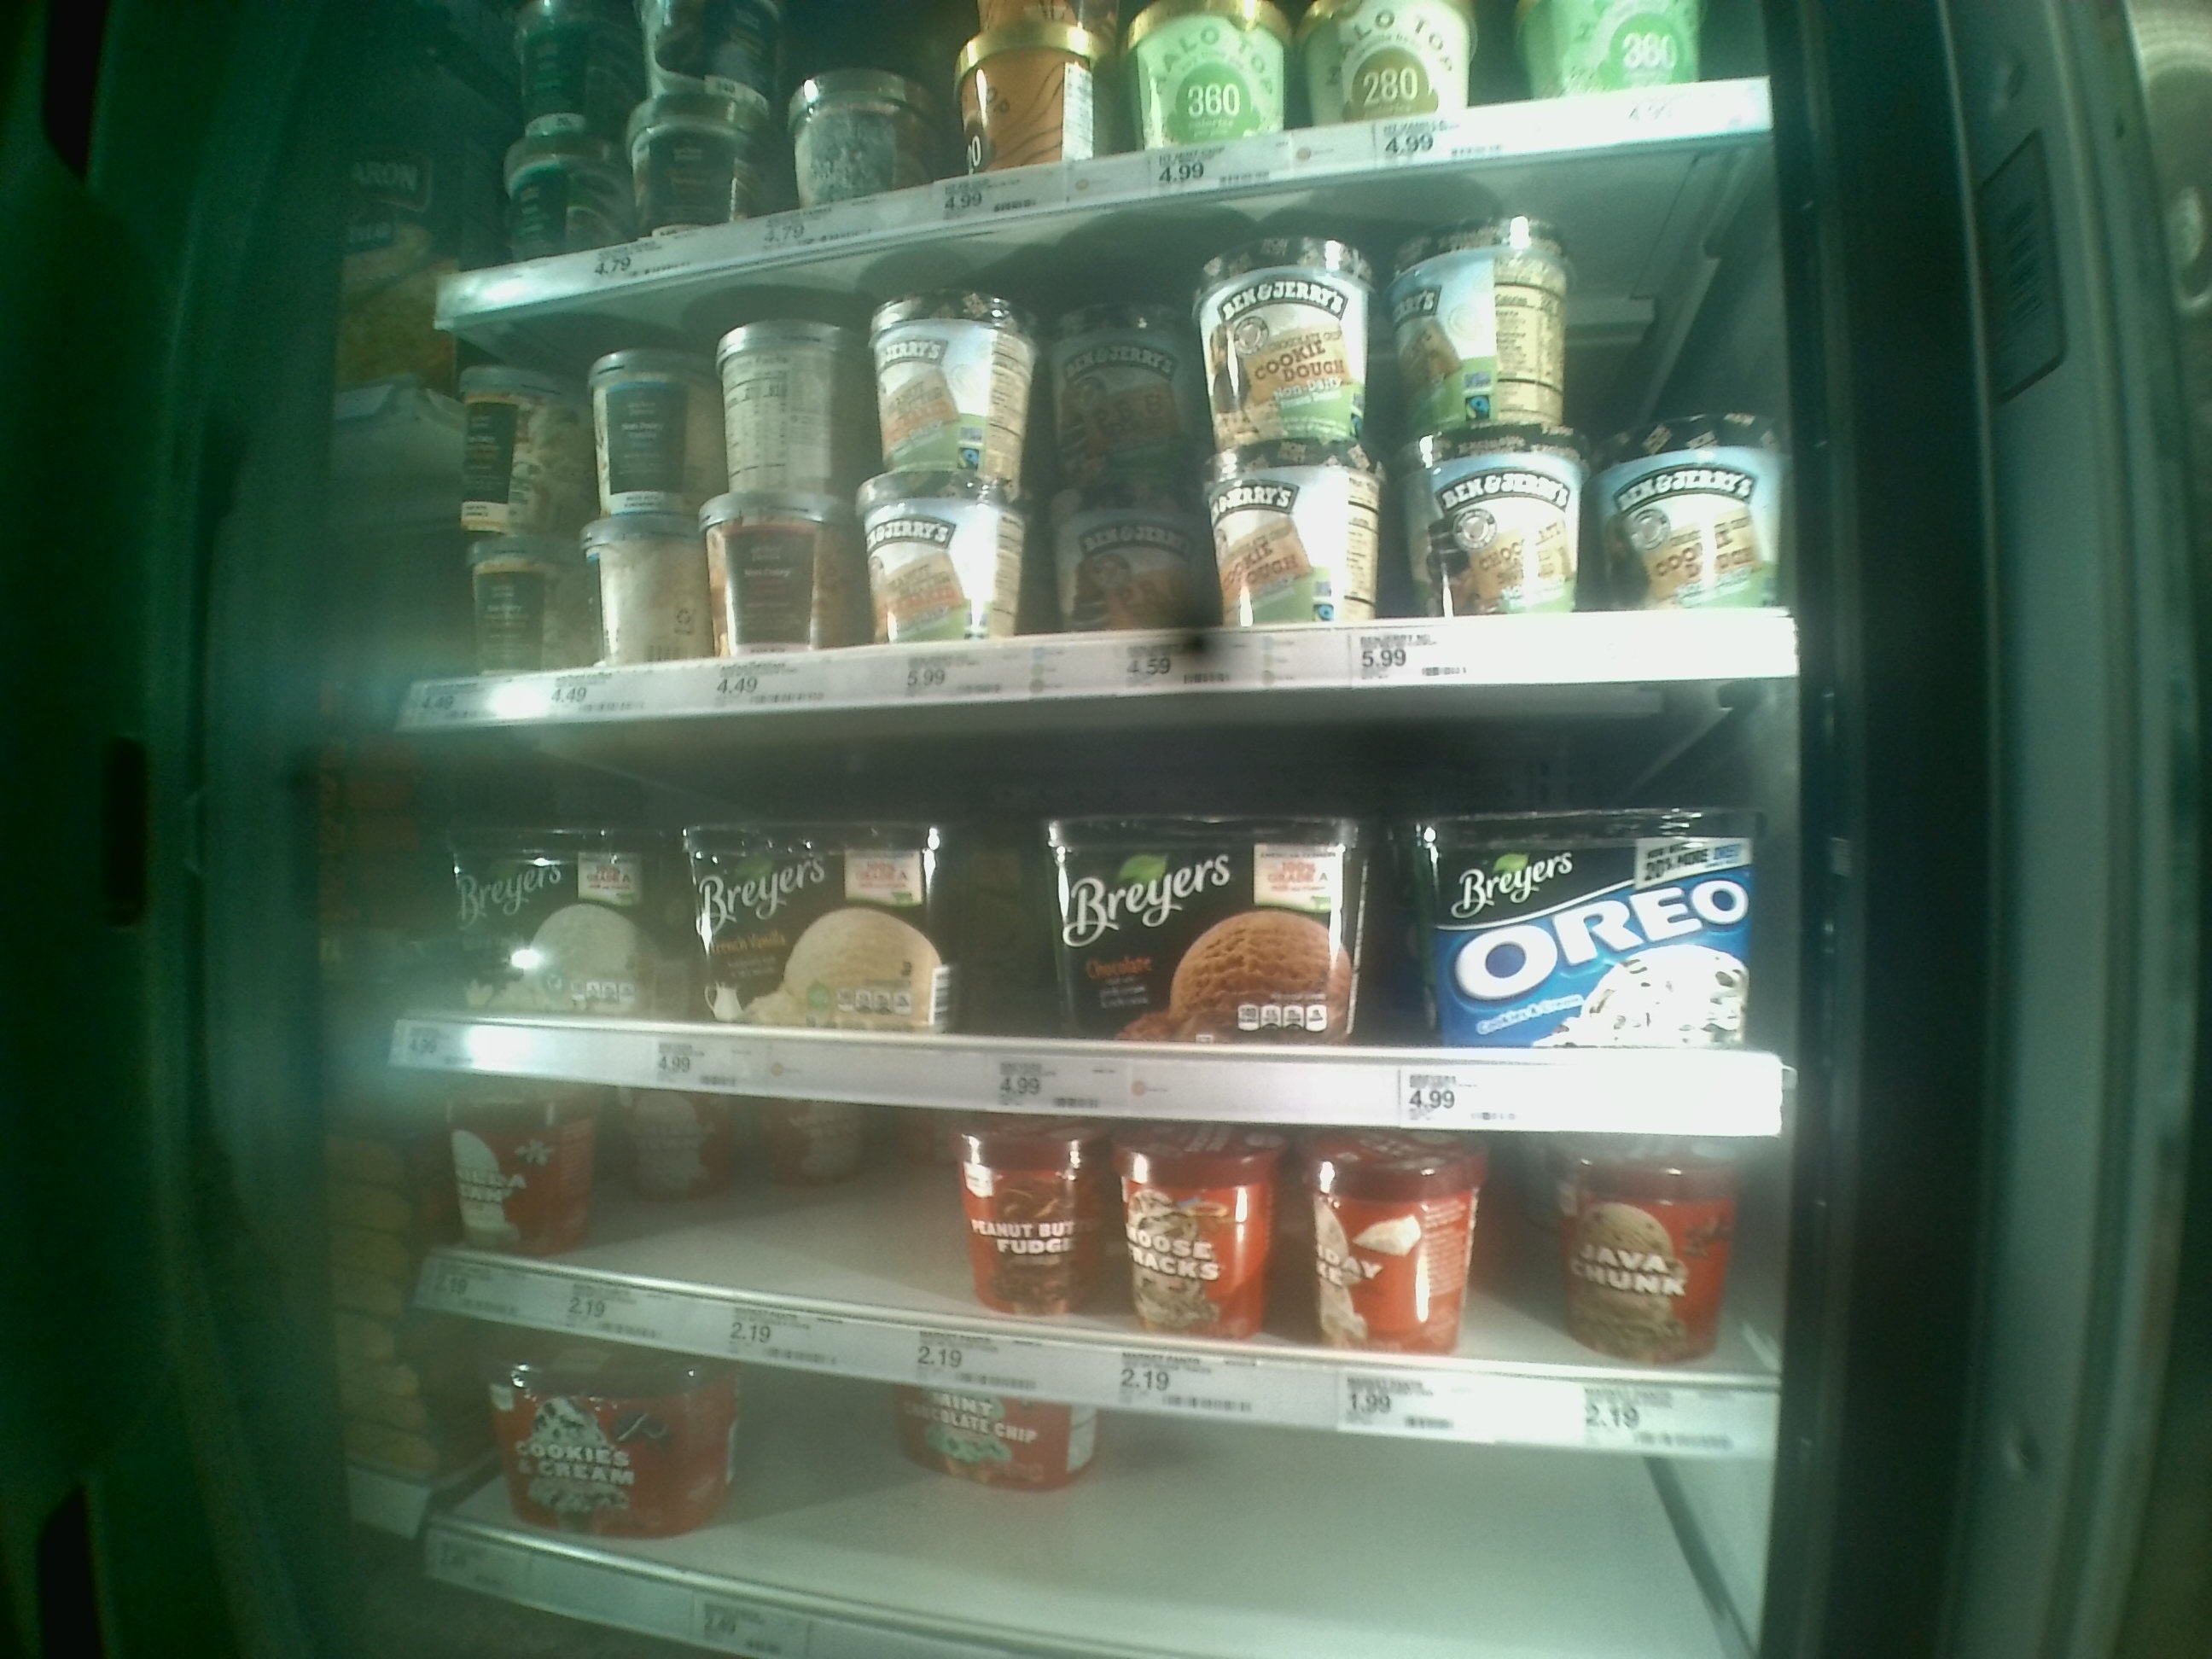ice-cream-shelf: (395, 673, 1799, 1143)
